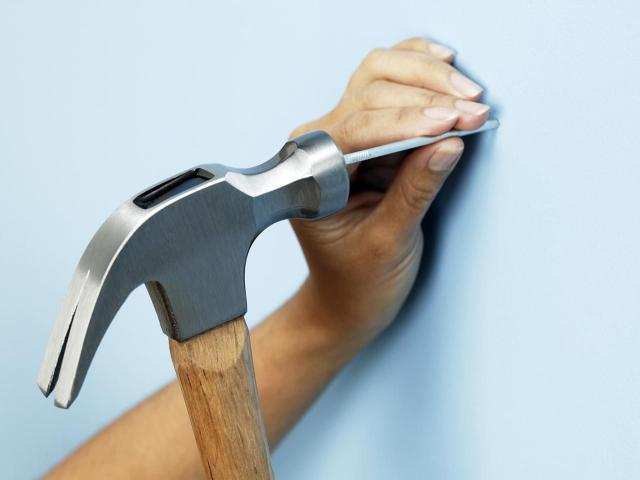Hammer: (38, 131, 349, 480)
Hand: (36, 37, 491, 480)
